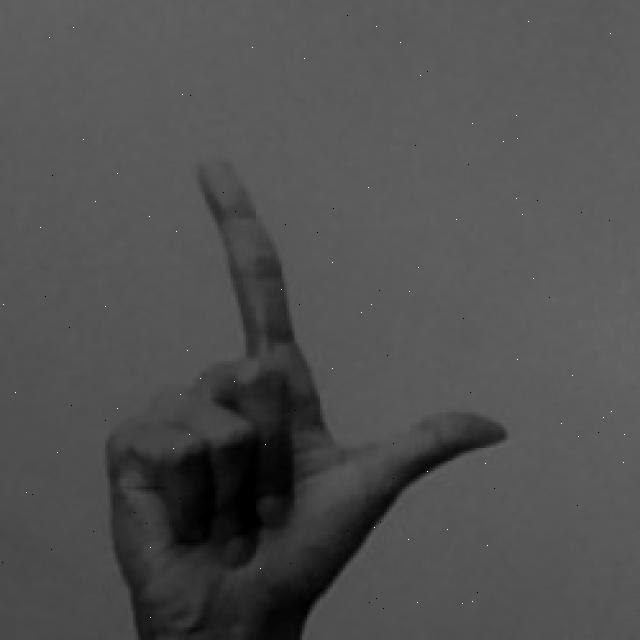L: (100, 148, 517, 640)
